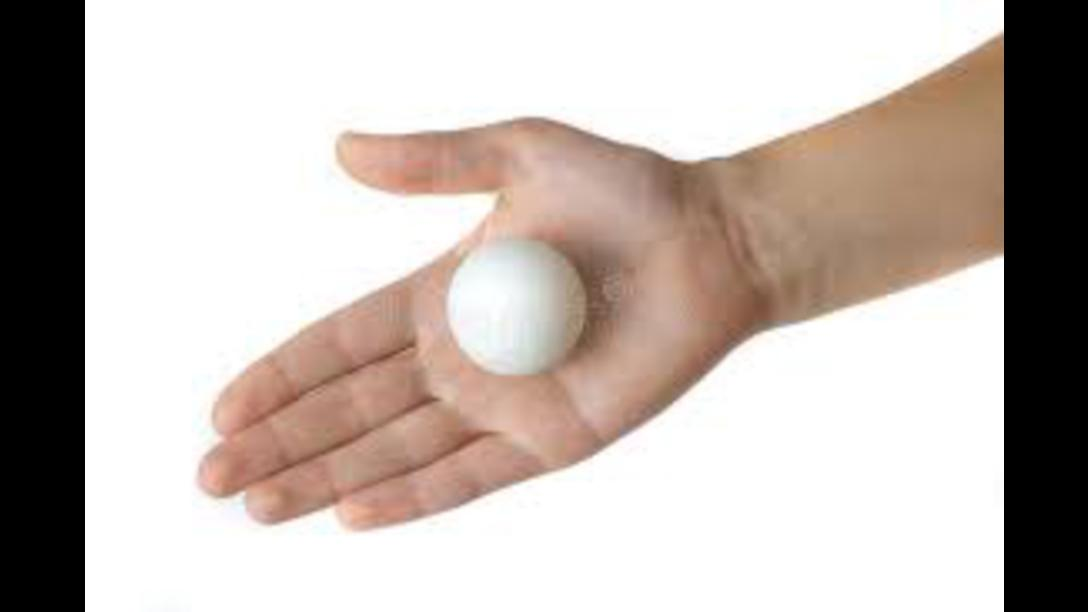Table-Tennis-Ball: (448, 242, 584, 374)
